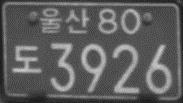0: (120, 7, 141, 35)
2: (111, 42, 140, 94)
3: (49, 41, 75, 92)
6: (144, 44, 172, 95)
8: (97, 7, 117, 34)
9: (79, 42, 107, 92)
도: (11, 44, 42, 74)
울산_O: (39, 7, 89, 33)
